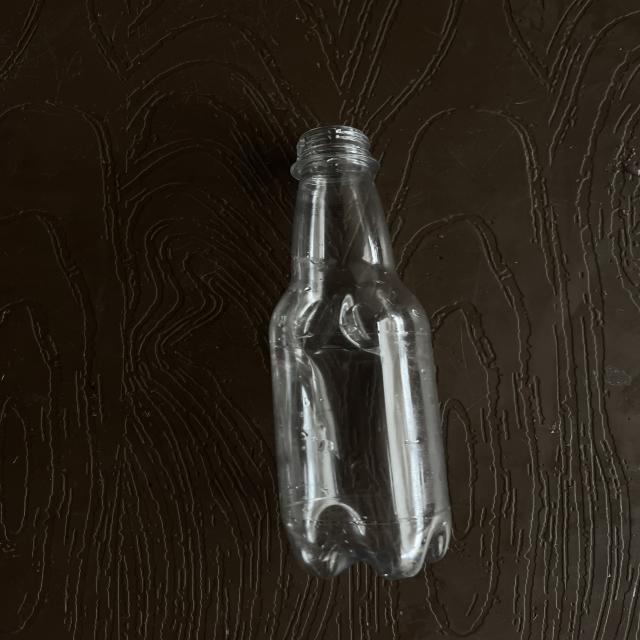PET_With_Liquid: (270, 128, 451, 578)
